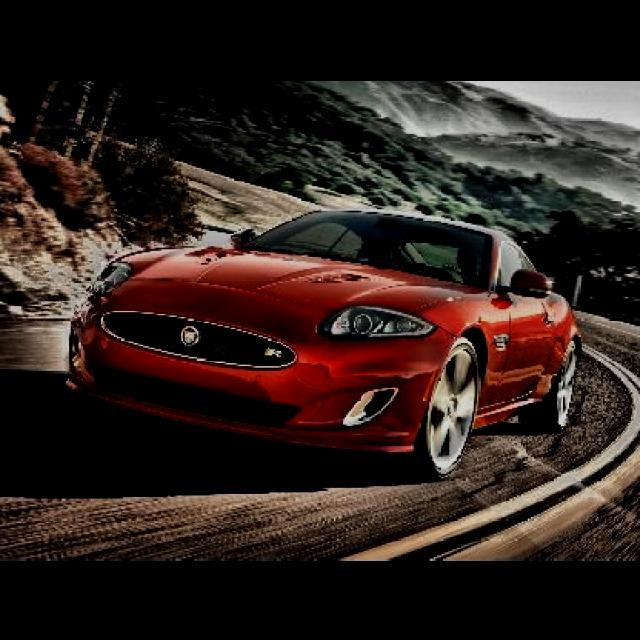red: (66, 167, 578, 502)
